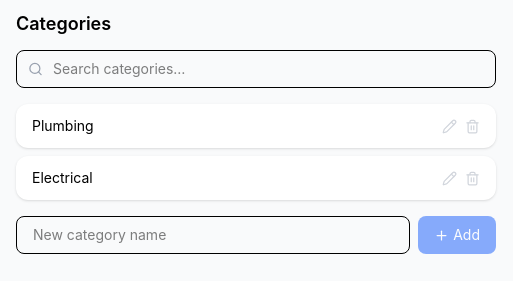
CategoriesPage › enters edit mode on pencil click
Check: the text "plumbing" is shown, box top-left (32, 117), bottom-right (94, 134)
What coordinates should you click on to do the following:
click the 1st button
I would click on:
 (450, 126)
Its box is top-left (442, 118), bottom-right (457, 134).
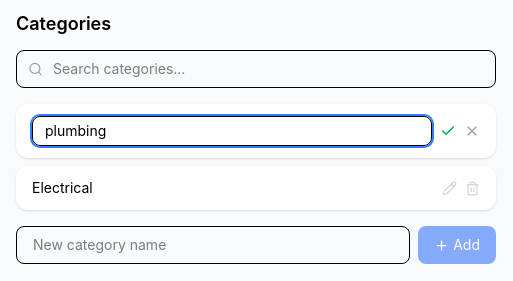
Check: the field showing "plumbing" is shown, box top-left (32, 116), bottom-right (432, 146)
